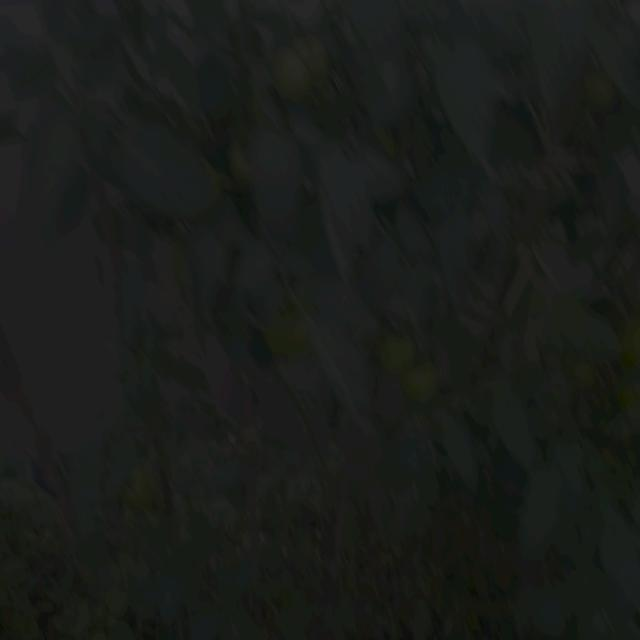tomato: (274, 33, 328, 106), (401, 363, 443, 404), (382, 336, 415, 380), (588, 73, 617, 118), (126, 467, 159, 505), (622, 317, 640, 374), (580, 361, 605, 396), (230, 148, 251, 188)
